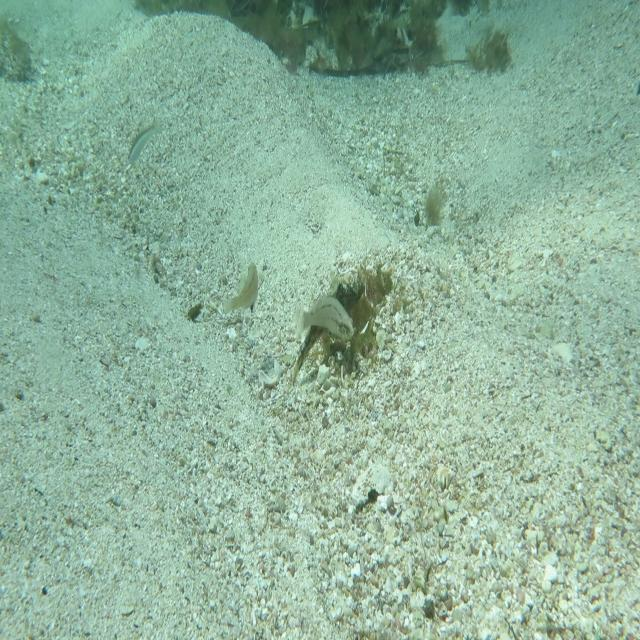Coris_julis_female: (125, 111, 167, 173)
LF: (288, 272, 369, 395)
female: (291, 286, 357, 350)
nest: (304, 249, 402, 364)
other_fish: (220, 253, 262, 323)
